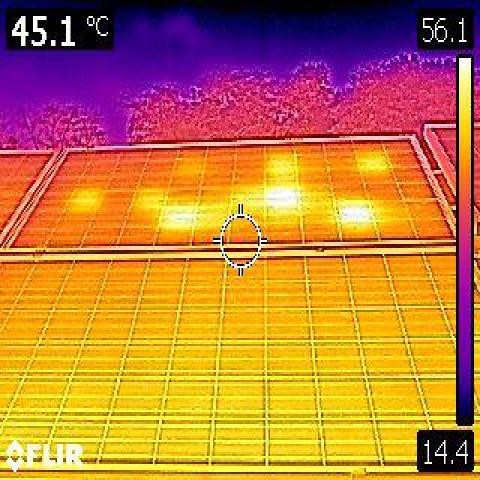fault: (266, 185, 298, 209), (338, 202, 368, 222), (164, 205, 192, 225)
